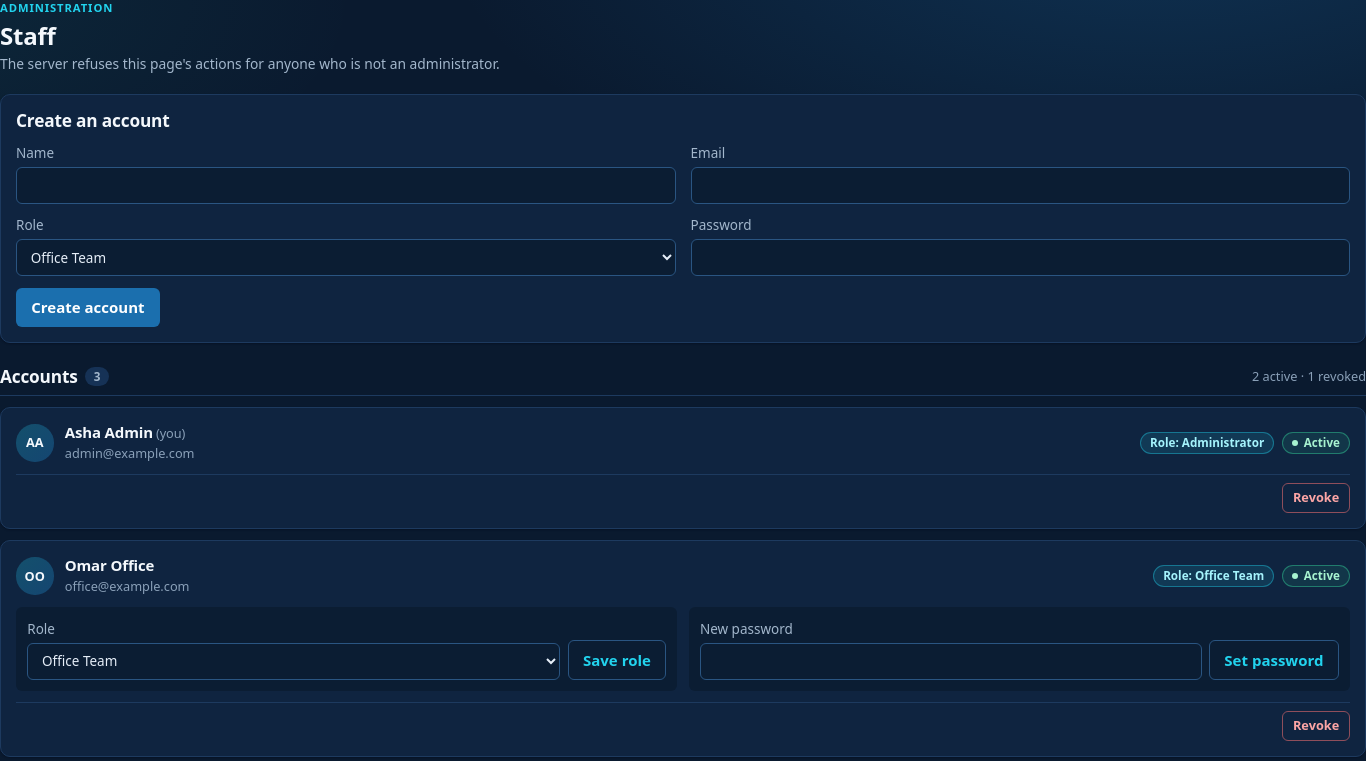
Test: staff page › shows the API error message when a change is refused
Step 1. Select "Accountant" in the dropdown named "Role for Omar Office" → (294, 661), box [27,643,560,680]
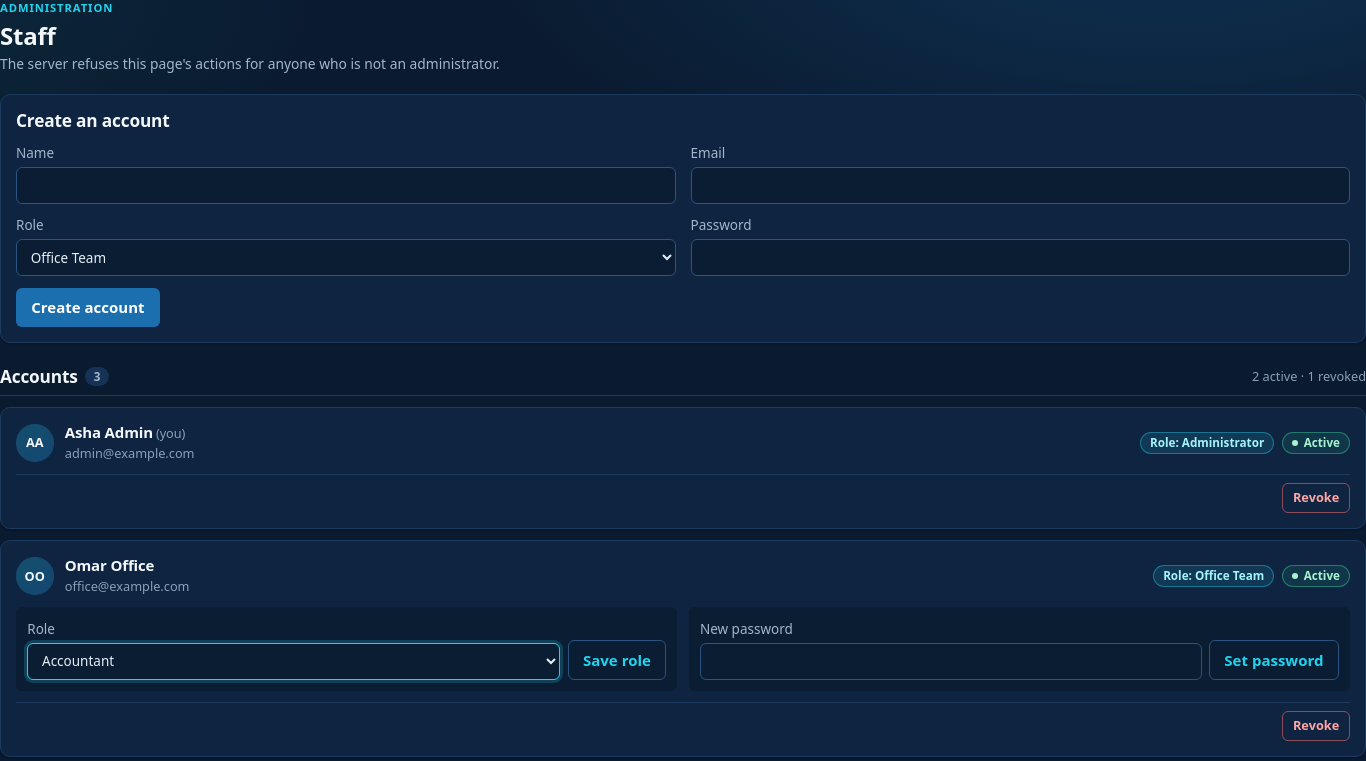
Step 2. Click the button "Save role" → (617, 660), box [568,640,666,680]
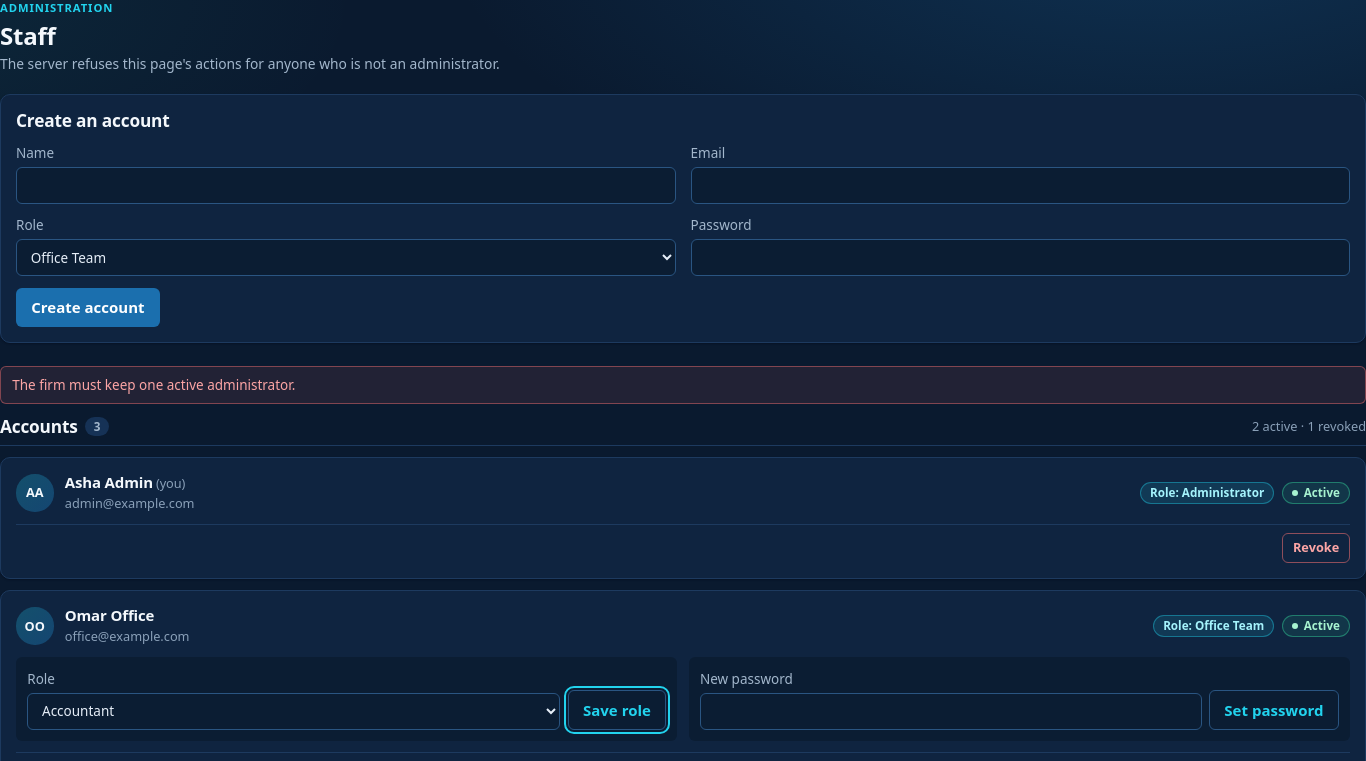
Expected: the text "The firm must keep one active administrator." is shown, [0,366,1365,404]
